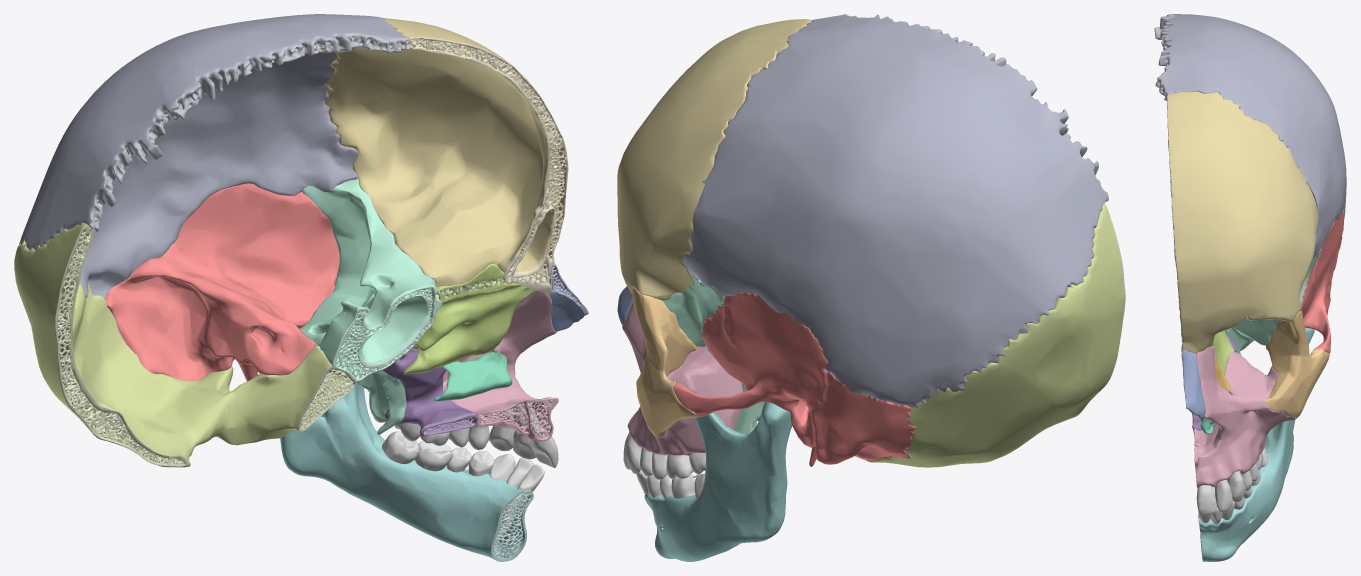
3 views of the same model, side by side, from view 1: azimuth 30°, elevation 25°; view 2: azimuth 150°, elevation 25°; view 3: azimuth 270°, elevation 25° (orthographic). The views are drawn at different scales.
Visible parts, largest first — view 1: FJ3274_BP10199_FMA52789_Left_parietal_bone_FJ3274_BP10199_FM, FJ3200_BP9668_FMA52734_Frontal_bone1_FJ3200_BP9668_FMA52734_, FJ3281_BP9536_FMA52739_Left_temporal_bone_FJ3281_BP9536_FMA5, FJ3309_BP10180_FMA52735_Occipital_bone1_FJ3309_BP10180_FMA52, Extract13, FJ3394_BP9806_FMA52736_Sphenoid_bone_FJ3394_BP9806_FMA52736_, Extract3, FJ1261_BP5455_FMA55699_Left_first_upper_molar_tooth17_FJ1261, FJ3199_BP10084_FMA52740_Ethmoid2_FJ3199_BP10084_FMA52740_Eth, PM3D_Cube3D12, FJ3273_BP9484_FMA53656_Left_palatine_bone_FJ3273_BP9484_FMA5, FJ3263_BP10109_FMA54738_Left_inferior_nasal_concha_FJ3263_BP (+1 smaller); view 2: FJ3274_BP10199_FMA52789_Left_parietal_bone_FJ3274_BP10199_FM, FJ3309_BP10180_FMA52735_Occipital_bone1_FJ3309_BP10180_FMA52, FJ3200_BP9668_FMA52734_Frontal_bone1_FJ3200_BP9668_FMA52734_, FJ3281_BP9536_FMA52739_Left_temporal_bone_FJ3281_BP9536_FMA5, Extract13, PM3D_Cube3D12, FJ3287_BP9801_FMA52893_Left_zygomatic_bone_FJ3287_BP9801_FMA, FJ1261_BP5455_FMA55699_Left_first_upper_molar_tooth17_FJ1261, FJ3394_BP9806_FMA52736_Sphenoid_bone_FJ3394_BP9806_FMA52736_; view 3: FJ3200_BP9668_FMA52734_Frontal_bone1_FJ3200_BP9668_FMA52734_, FJ3274_BP10199_FMA52789_Left_parietal_bone_FJ3274_BP10199_FM, PM3D_Cube3D12, Extract13, FJ3287_BP9801_FMA52893_Left_zygomatic_bone_FJ3287_BP9801_FMA, FJ3281_BP9536_FMA52739_Left_temporal_bone_FJ3281_BP9536_FMA5, FJ1261_BP5455_FMA55699_Left_first_upper_molar_tooth17_FJ1261, FJ3394_BP9806_FMA52736_Sphenoid_bone_FJ3394_BP9806_FMA52736_, FJ3272_BP9837_FMA53648_Left_nasal_bone2_FJ3272_BP9837_FMA536, FJ3199_BP10084_FMA52740_Ethmoid2_FJ3199_BP10084_FMA52740_Eth.
Boxes of the visible parts, x1,y1,x2,y2 form: FJ3274_BP10199_FMA52789_Left_parietal_bone_FJ3274_BP10199_FM: (16, 14, 409, 298); FJ3200_BP9668_FMA52734_Frontal_bone1_FJ3200_BP9668_FMA52734_: (325, 17, 568, 293); FJ3281_BP9536_FMA52739_Left_temporal_bone_FJ3281_BP9536_FMA5: (105, 183, 339, 381); FJ3309_BP10180_FMA52735_Occipital_bone1_FJ3309_BP10180_FMA52: (14, 223, 357, 467); Extract13: (280, 383, 533, 561); FJ3394_BP9806_FMA52736_Sphenoid_bone_FJ3394_BP9806_FMA52736_: (299, 178, 441, 434); Extract3: (57, 37, 579, 558); FJ1261_BP5455_FMA55699_Left_first_upper_molar_tooth17_FJ1261: (382, 404, 558, 544); FJ3199_BP10084_FMA52740_Ethmoid2_FJ3199_BP10084_FMA52740_Eth: (403, 263, 536, 374); PM3D_Cube3D12: (399, 271, 558, 441); FJ3273_BP9484_FMA53656_Left_palatine_bone_FJ3273_BP9484_FMA5: (382, 348, 477, 436); FJ3263_BP10109_FMA54738_Left_inferior_nasal_concha_FJ3263_BP: (434, 350, 512, 401); FJ3274_BP10199_FMA52789_Left_parietal_bone_FJ3274_BP10199_FM: (683, 14, 1108, 407); FJ3309_BP10180_FMA52735_Occipital_bone1_FJ3309_BP10180_FMA52: (865, 203, 1125, 467); FJ3200_BP9668_FMA52734_Frontal_bone1_FJ3200_BP9668_FMA52734_: (617, 19, 811, 300); FJ3281_BP9536_FMA52739_Left_temporal_bone_FJ3281_BP9536_FMA5: (673, 292, 915, 466); Extract13: (644, 402, 792, 561); PM3D_Cube3D12: (622, 302, 742, 455); FJ3287_BP9801_FMA52893_Left_zygomatic_bone_FJ3287_BP9801_FMA: (632, 288, 702, 437); FJ1261_BP5455_FMA55699_Left_first_upper_molar_tooth17_FJ1261: (623, 432, 705, 498); FJ3394_BP9806_FMA52736_Sphenoid_bone_FJ3394_BP9806_FMA52736_: (663, 274, 764, 434); FJ3200_BP9668_FMA52734_Frontal_bone1_FJ3200_BP9668_FMA52734_: (1167, 91, 1318, 354); FJ3274_BP10199_FMA52789_Left_parietal_bone_FJ3274_BP10199_FM: (1154, 14, 1346, 259); PM3D_Cube3D12: (1194, 345, 1297, 487); Extract13: (1198, 327, 1314, 561); FJ3287_BP9801_FMA52893_Left_zygomatic_bone_FJ3287_BP9801_FMA: (1264, 311, 1329, 417); FJ3281_BP9536_FMA52739_Left_temporal_bone_FJ3281_BP9536_FMA5: (1301, 210, 1343, 353); FJ1261_BP5455_FMA55699_Left_first_upper_molar_tooth17_FJ1261: (1196, 448, 1268, 524); FJ3394_BP9806_FMA52736_Sphenoid_bone_FJ3394_BP9806_FMA52736_: (1225, 248, 1321, 354); FJ3272_BP9837_FMA53648_Left_nasal_bone2_FJ3272_BP9837_FMA536: (1181, 349, 1205, 418); FJ3199_BP10084_FMA52740_Ethmoid2_FJ3199_BP10084_FMA52740_Eth: (1213, 330, 1234, 375).
Bounding box in the file's own units: 206 × 218 × 86.35.
